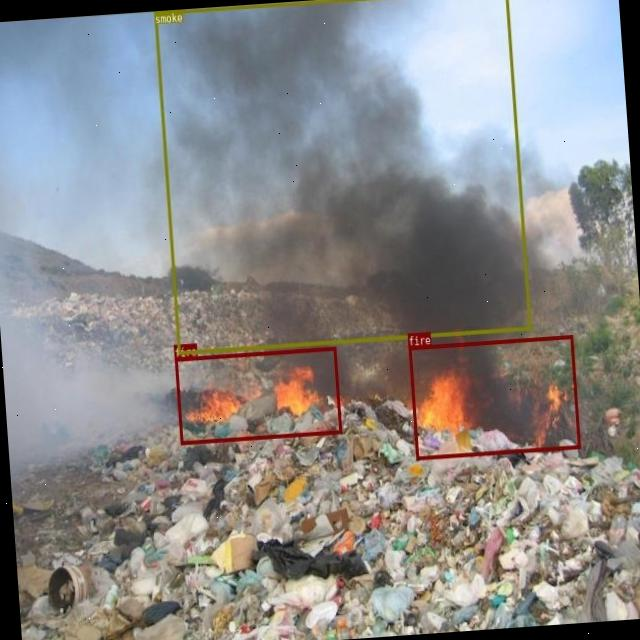fire: (408, 334, 580, 460), (174, 346, 341, 444)
smoke: (154, 0, 530, 353)
